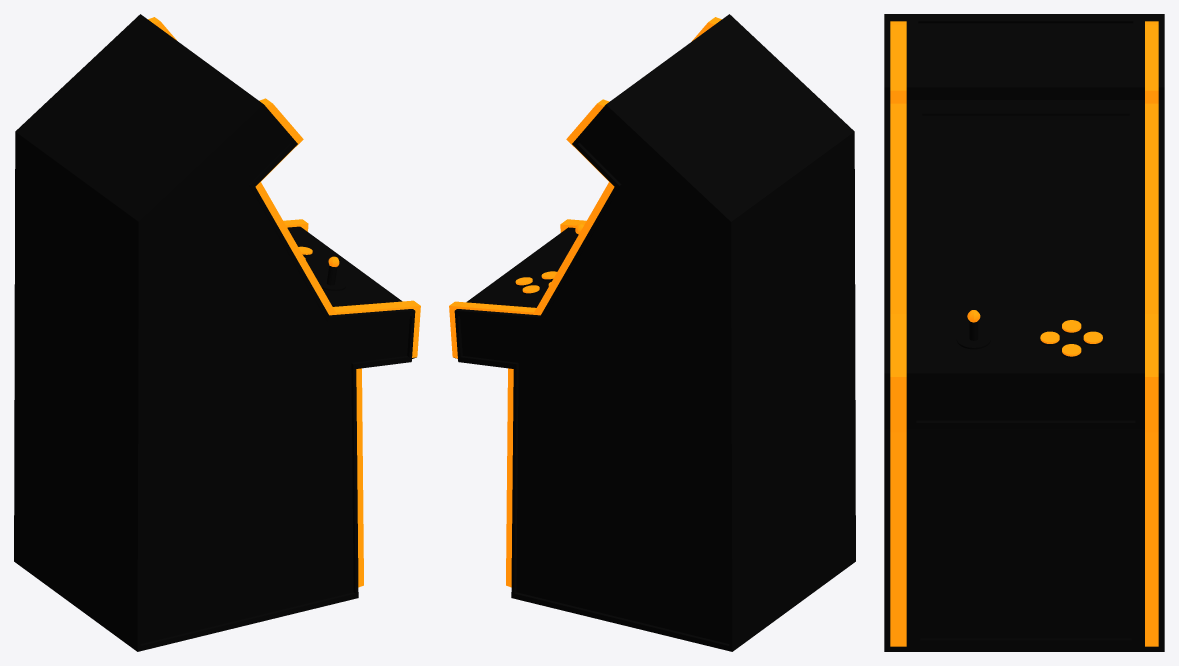
Rendered from Arcade Machine Orange.glb.
The picture shows the model from 3 angles, left to right: view 1: azimuth 30°, elevation 25°; view 2: azimuth 150°, elevation 25°; view 3: azimuth 270°, elevation 25°; orthographic projection. The views are drawn at different scales.
Parts seen in each view (by area): view 1: Arcade Machine Orange; view 2: Arcade Machine Orange; view 3: Arcade Machine Orange.
Boxes of the visible parts, x1,y1,x2,y2 form: Arcade Machine Orange: (14, 14, 420, 651); Arcade Machine Orange: (449, 14, 855, 651); Arcade Machine Orange: (884, 14, 1164, 651).
Bounding box in the file's own units: 1.74 × 3 × 1.3.
